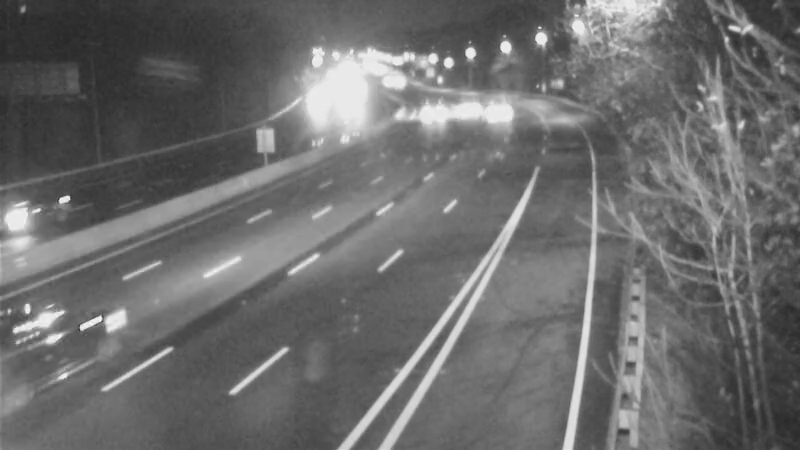vehicle: (1, 298, 104, 408), (1, 179, 75, 259), (476, 87, 526, 137), (439, 80, 489, 130), (401, 83, 451, 133)
